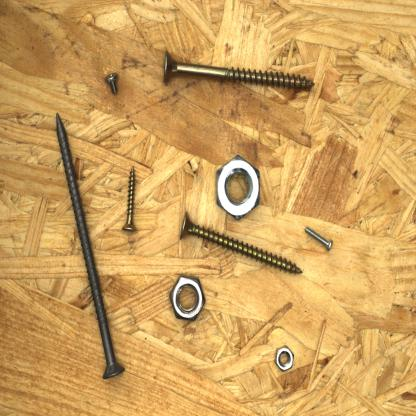screw: (53, 110, 128, 383), (177, 209, 307, 278), (158, 47, 319, 94), (117, 162, 143, 236), (298, 222, 338, 255), (103, 69, 122, 99)
